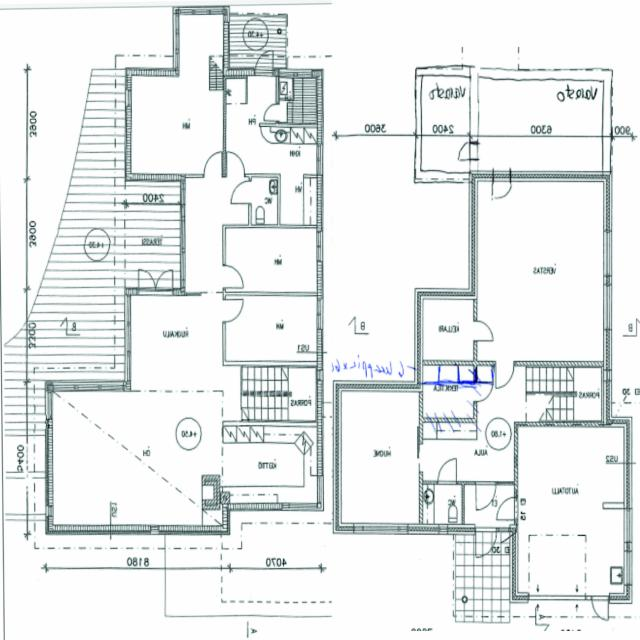door: (476, 523, 497, 560), (591, 592, 610, 627), (493, 170, 511, 203), (255, 46, 273, 78), (138, 265, 156, 296), (496, 497, 519, 521), (496, 361, 515, 390), (438, 457, 457, 485), (156, 265, 173, 296), (452, 138, 477, 159), (204, 150, 222, 178), (477, 481, 495, 508), (230, 182, 252, 204), (223, 265, 244, 288), (227, 152, 245, 178), (223, 299, 243, 322), (474, 320, 495, 341), (262, 103, 280, 121)
